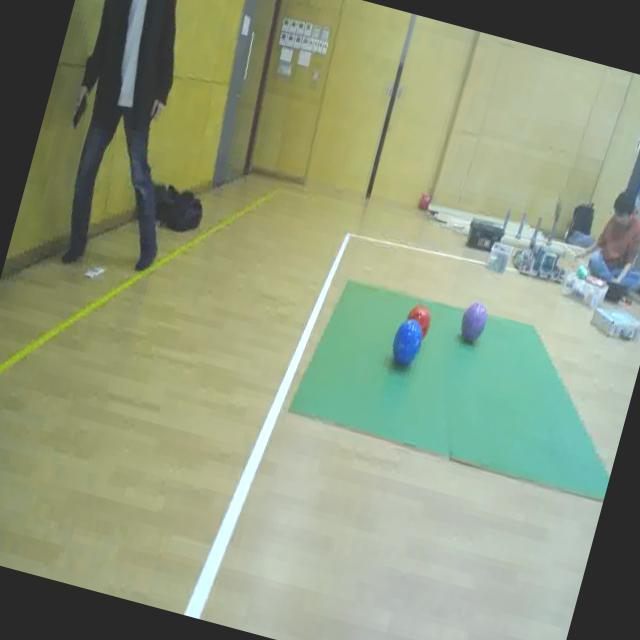blue_ball: (388, 316, 426, 367)
purple_ball: (456, 301, 491, 348)
red_ball: (402, 300, 433, 338)
